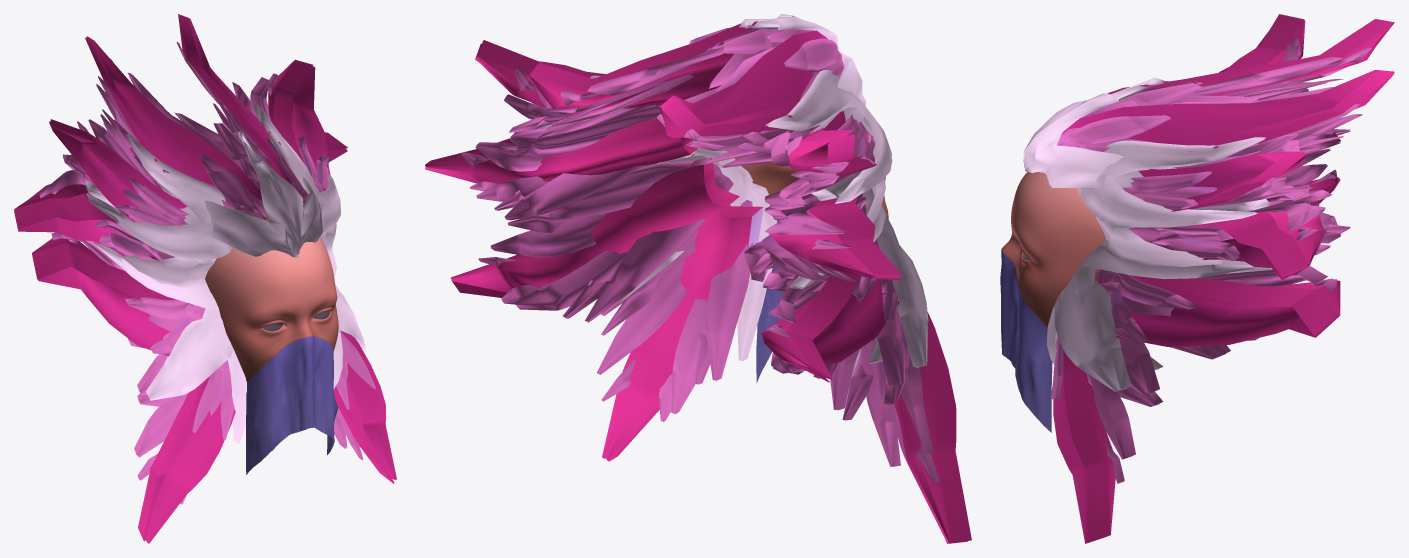
Rendered from Mask_Normal11-2UVs.glb.
The picture shows the model from 3 angles, left to right: view 1: azimuth 30°, elevation 25°; view 2: azimuth 150°, elevation 25°; view 3: azimuth 270°, elevation 25°; orthographic projection. The views are drawn at different scales.
Parts seen in each view (by area): view 1: BézierCurve.001, Female Average Head; view 2: BézierCurve.001, Female Average Head; view 3: BézierCurve.001, Female Average Head.
Boxes of the visible parts, bbox=[...] form: BézierCurve.001: bbox=[14, 14, 396, 543]; Female Average Head: bbox=[205, 236, 338, 474]; BézierCurve.001: bbox=[425, 14, 971, 543]; Female Average Head: bbox=[691, 138, 888, 382]; BézierCurve.001: bbox=[1023, 14, 1394, 543]; Female Average Head: bbox=[1000, 172, 1105, 432].
Size of the model in its own units: 0.3963 by 0.447 by 0.3689.
1 material, 1 textured.
